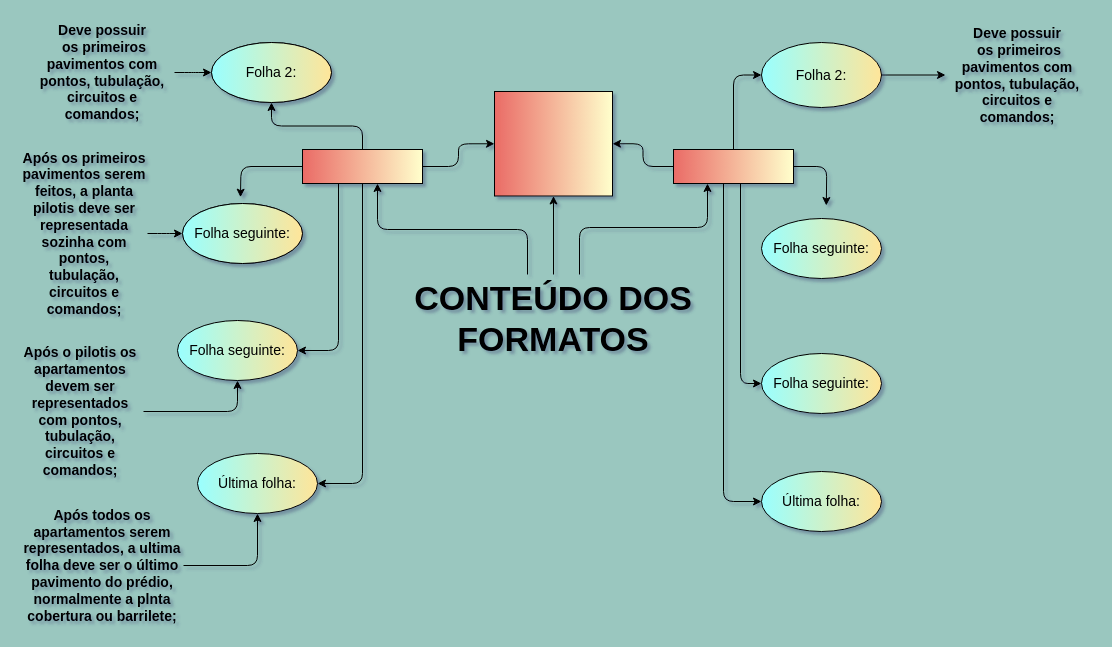
Some shapes in this 1112 by 647 pixel diagram are drawn without their labels. The shapes that lost their labels are listed below. From the top down, each one's box as (x1, y1, x2, y2) in pixels, then its label:
(494, 90, 612, 196): Folha 1: DETALHES NOTAS SELO SIMBOLOGIA TABELA ICC
(302, 148, 422, 184): Em anteprojeto:
(672, 148, 794, 184): Em Executivo:
